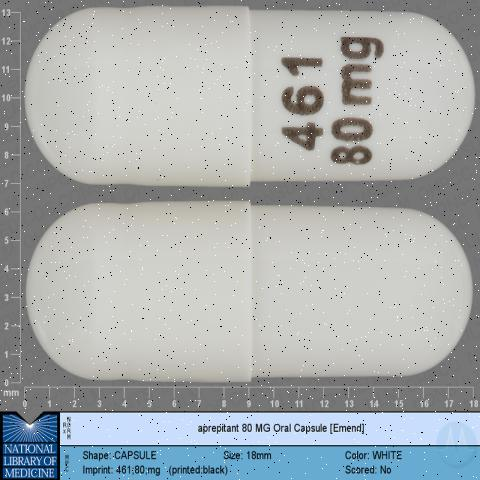Pill: (6, 190, 480, 403), (7, 4, 480, 190)
